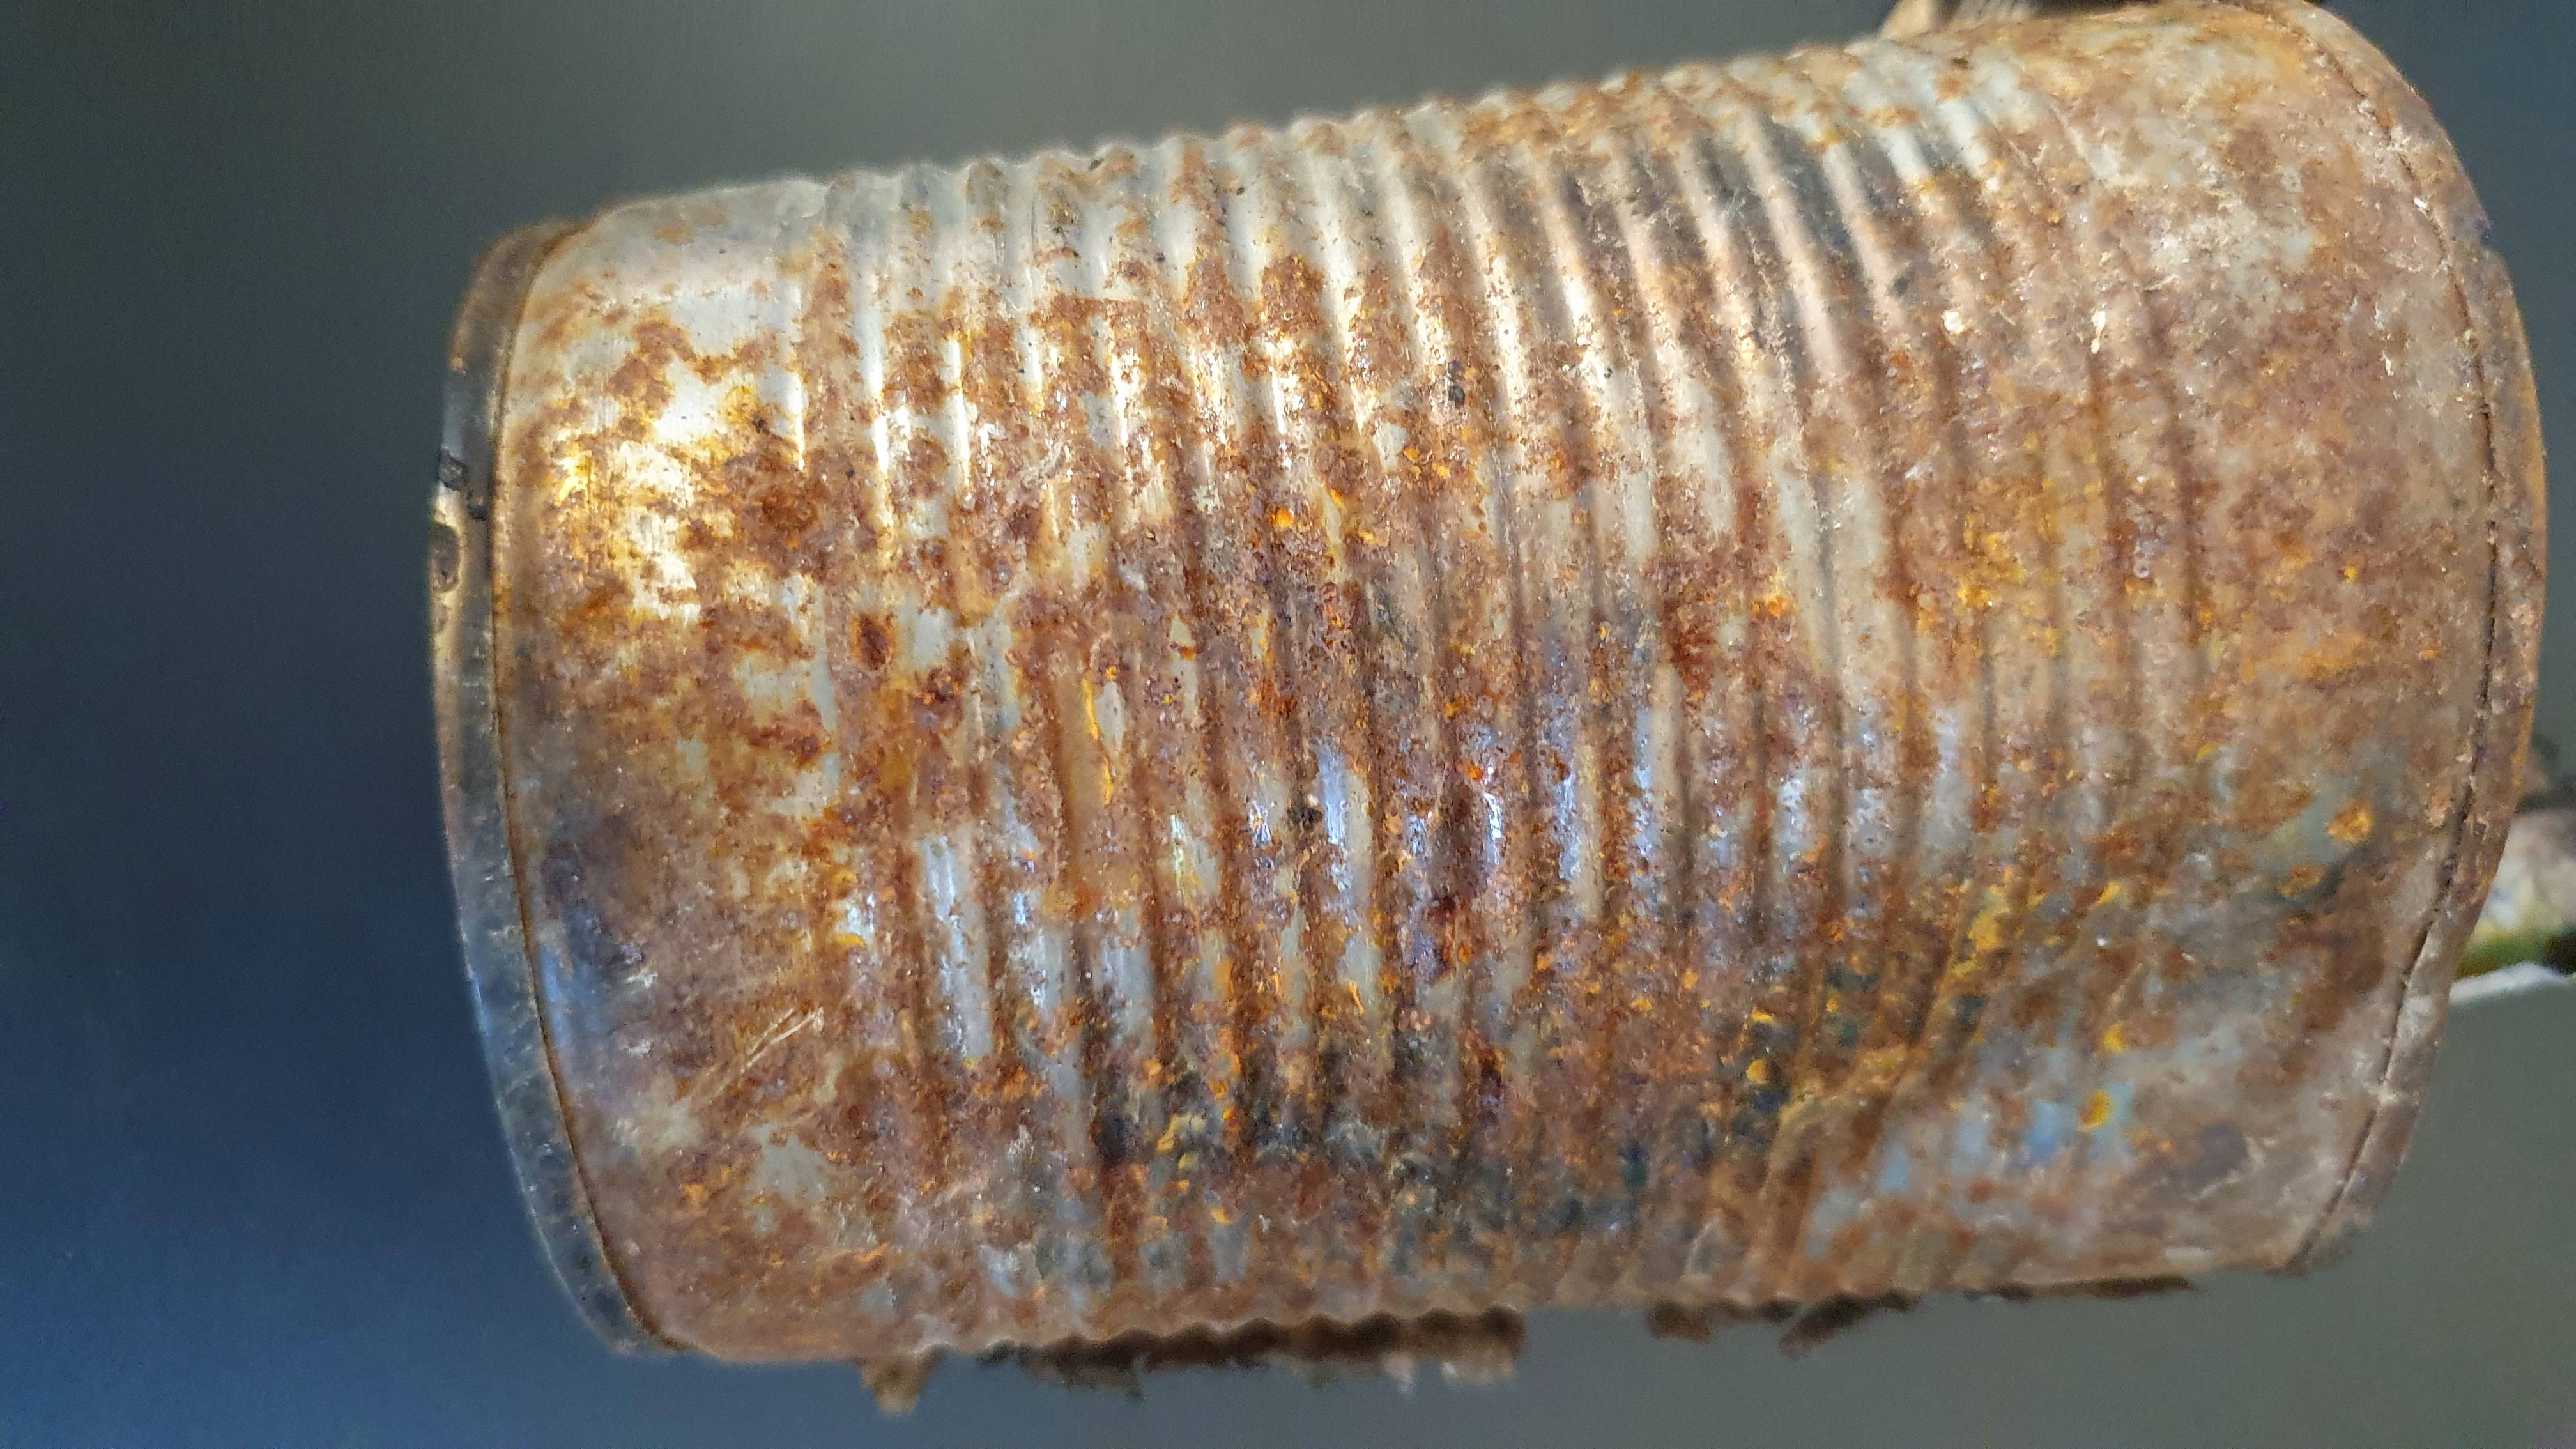metal: (387, 5, 2576, 1449)
